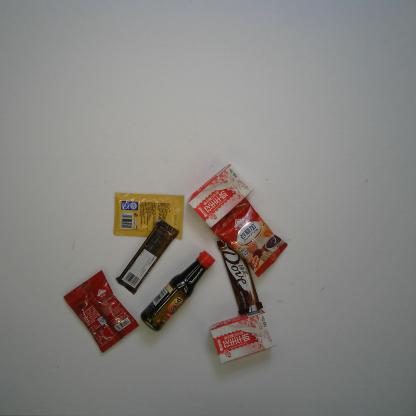Chocolate: (115, 218, 180, 296), (216, 238, 263, 316)
Instant Drink: (209, 198, 288, 278), (63, 270, 139, 353)
Milk: (187, 164, 254, 228), (208, 308, 276, 364)
Seasoner: (139, 250, 216, 333), (113, 192, 184, 240)
